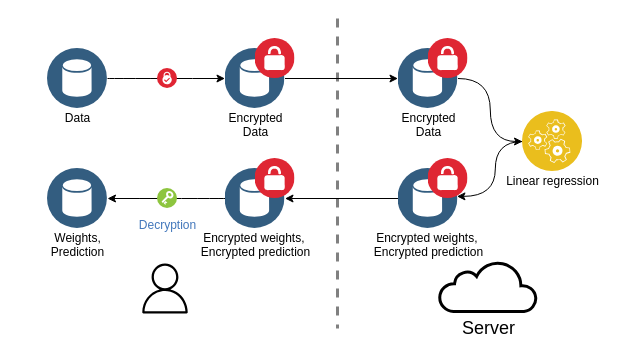
This 624x360 diagram has some shape labels left out. Each missing label, with the box of its shape:
Client: (139, 262, 190, 314)
Encryption: (157, 68, 177, 88)
